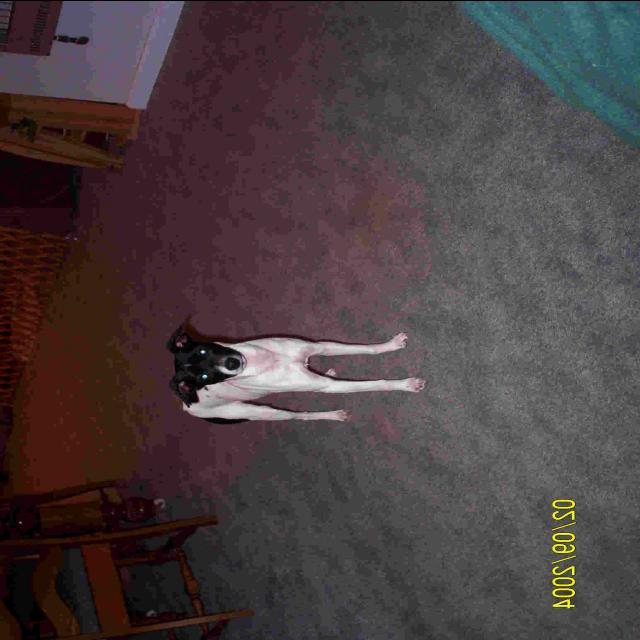toy_terrier: (141, 308, 429, 432)
